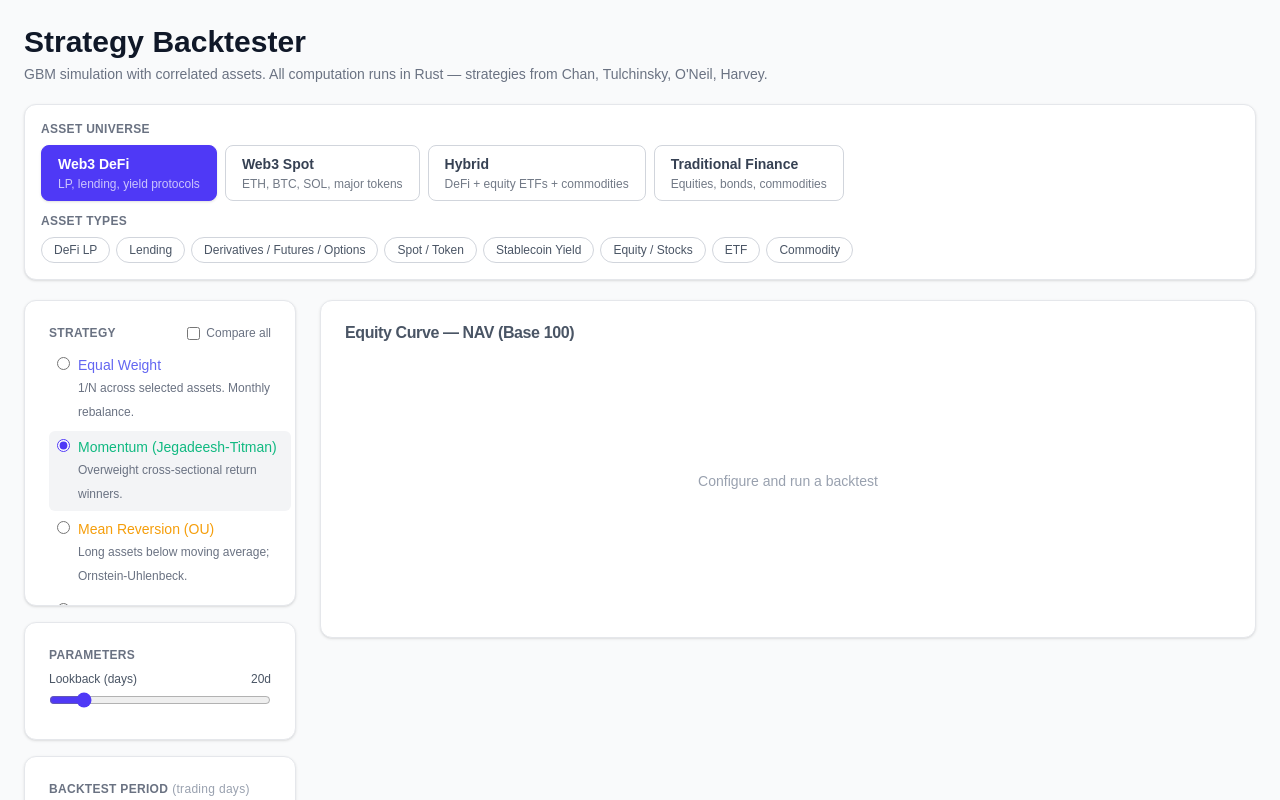
Test: TopNBar › appears when universe is trad_fi with no types selected
What coordinates should you click on to do the following:
click the radio button with test id "universe-trad_fi"
I would click on:
 (749, 173)
Its box is [654, 145, 844, 201].
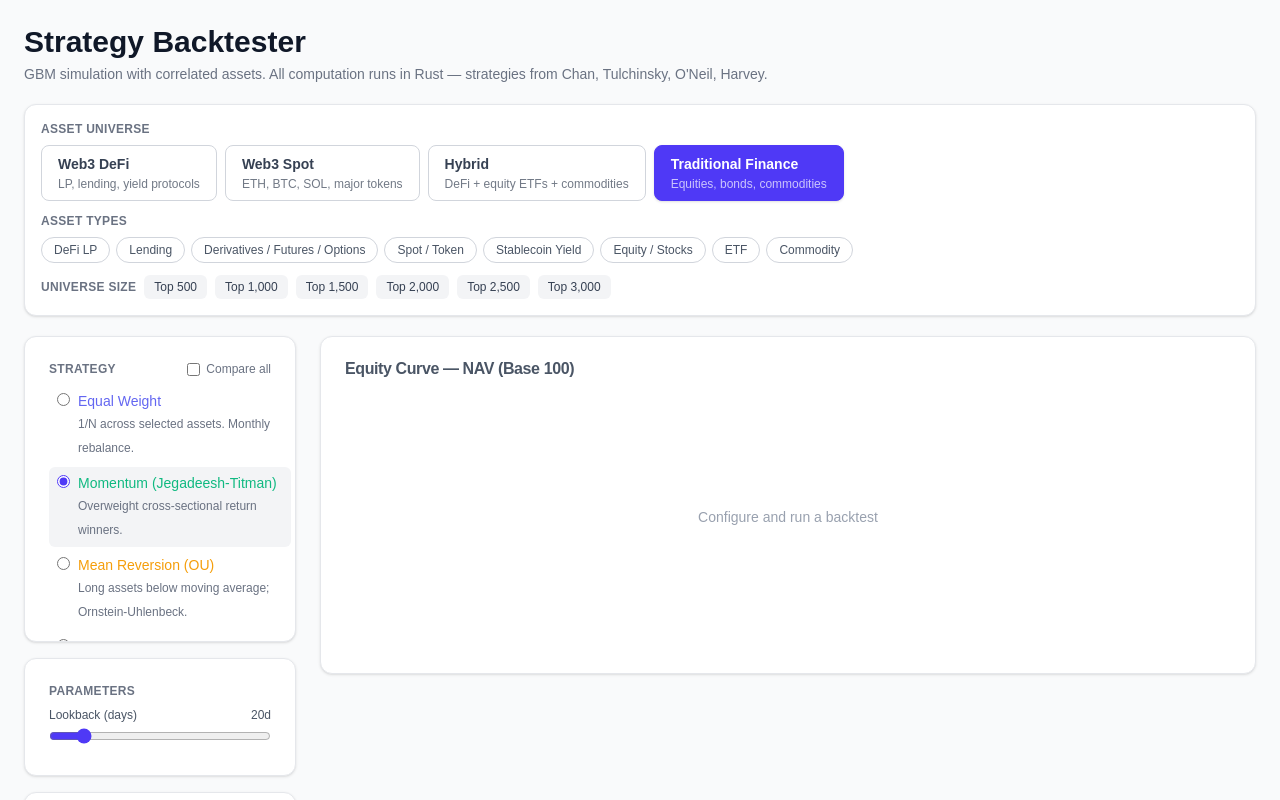
Check: the element with test id "top-n-bar" is shown, box [41, 275, 611, 299]
